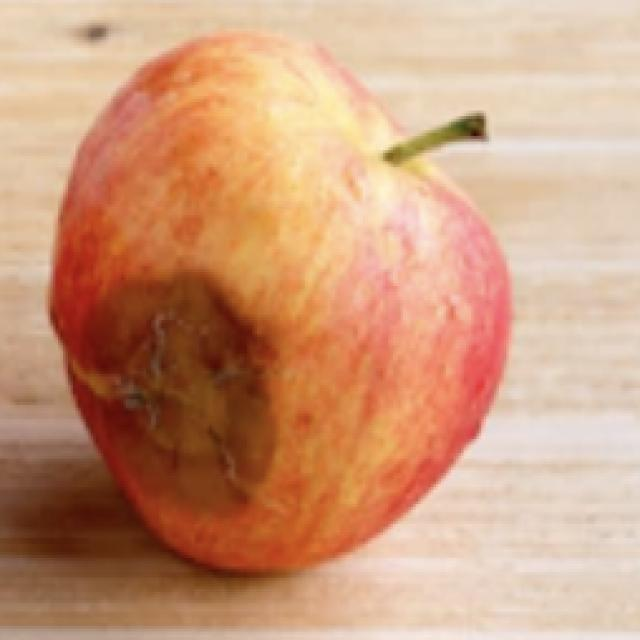rotten_apple: (45, 29, 514, 577)
